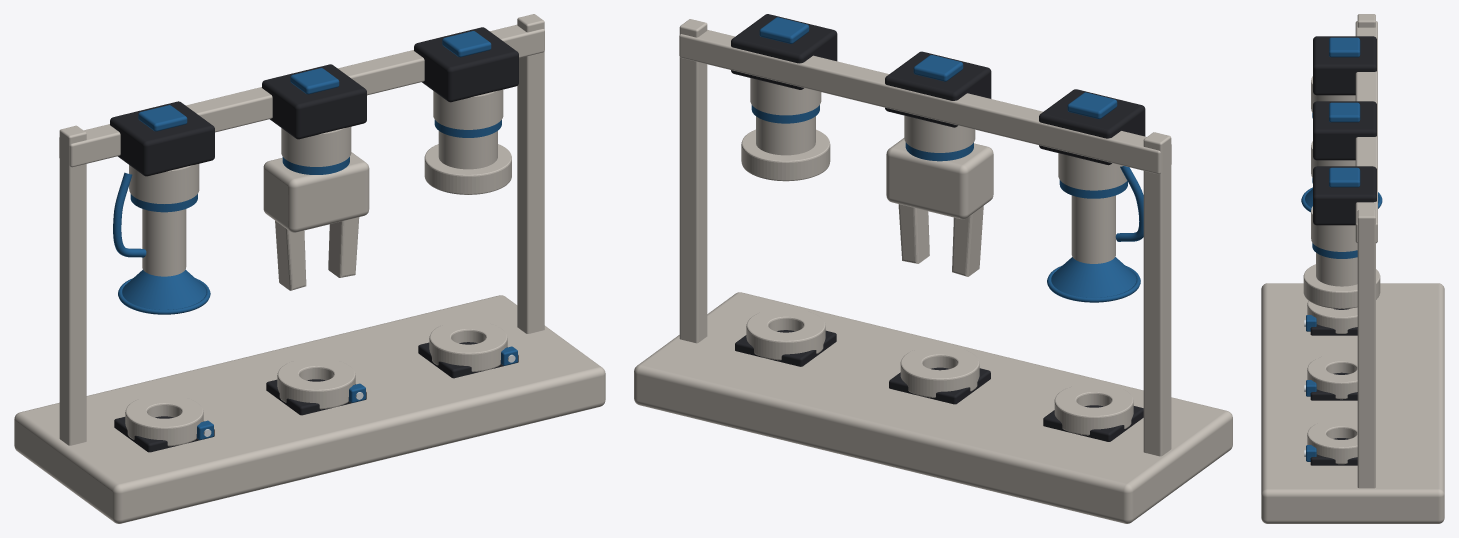
The model's file is anatomy-15.glb.
The picture shows the model from 3 angles, left to right: view 1: azimuth 30°, elevation 25°; view 2: azimuth 150°, elevation 25°; view 3: azimuth 270°, elevation 25°; orthographic projection. The views are drawn at different scales.
Parts seen in each view (by area): view 1: base, locks, uprights, docks, jaw, collars, rail, vacuum, tool, hose, dock-latches; view 2: base, uprights, rail, docks, locks, jaw, collars, vacuum, tool, hose; view 3: base, locks, docks, uprights, tool, collars, rail, dock-latches, vacuum.
Boxes of the visible parts, x1,y1,x2,y2 form: base: (14, 295, 605, 523); locks: (110, 27, 518, 176); uprights: (59, 14, 544, 445); docks: (114, 320, 518, 452); jaw: (263, 152, 369, 290); collars: (129, 89, 503, 212); rail: (59, 24, 544, 167); vacuum: (118, 209, 210, 314); tool: (424, 131, 511, 194); hose: (113, 172, 146, 257); dock-latches: (197, 346, 517, 439); base: (634, 292, 1232, 523); uprights: (679, 19, 1171, 456); rail: (679, 30, 1171, 174); docks: (735, 308, 1143, 441); locks: (731, 14, 1145, 165); jaw: (886, 138, 993, 276); collars: (750, 78, 1127, 198); vacuum: (1047, 195, 1140, 302); tool: (741, 116, 830, 181); hose: (1115, 166, 1143, 241); base: (1261, 283, 1444, 523); locks: (1313, 36, 1376, 225); docks: (1307, 300, 1357, 465); uprights: (1357, 14, 1375, 488); tool: (1303, 253, 1380, 308); collars: (1311, 76, 1357, 258); rail: (1355, 21, 1377, 243); dock-latches: (1304, 315, 1316, 461); vacuum: (1301, 187, 1382, 212).
Size of the model in its own units: 2.88 by 1.99 by 1.06.
